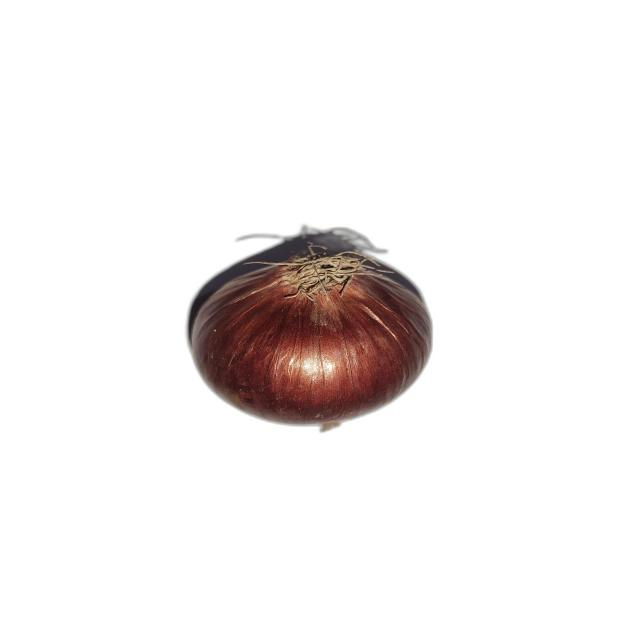onion: (189, 242, 434, 431)
